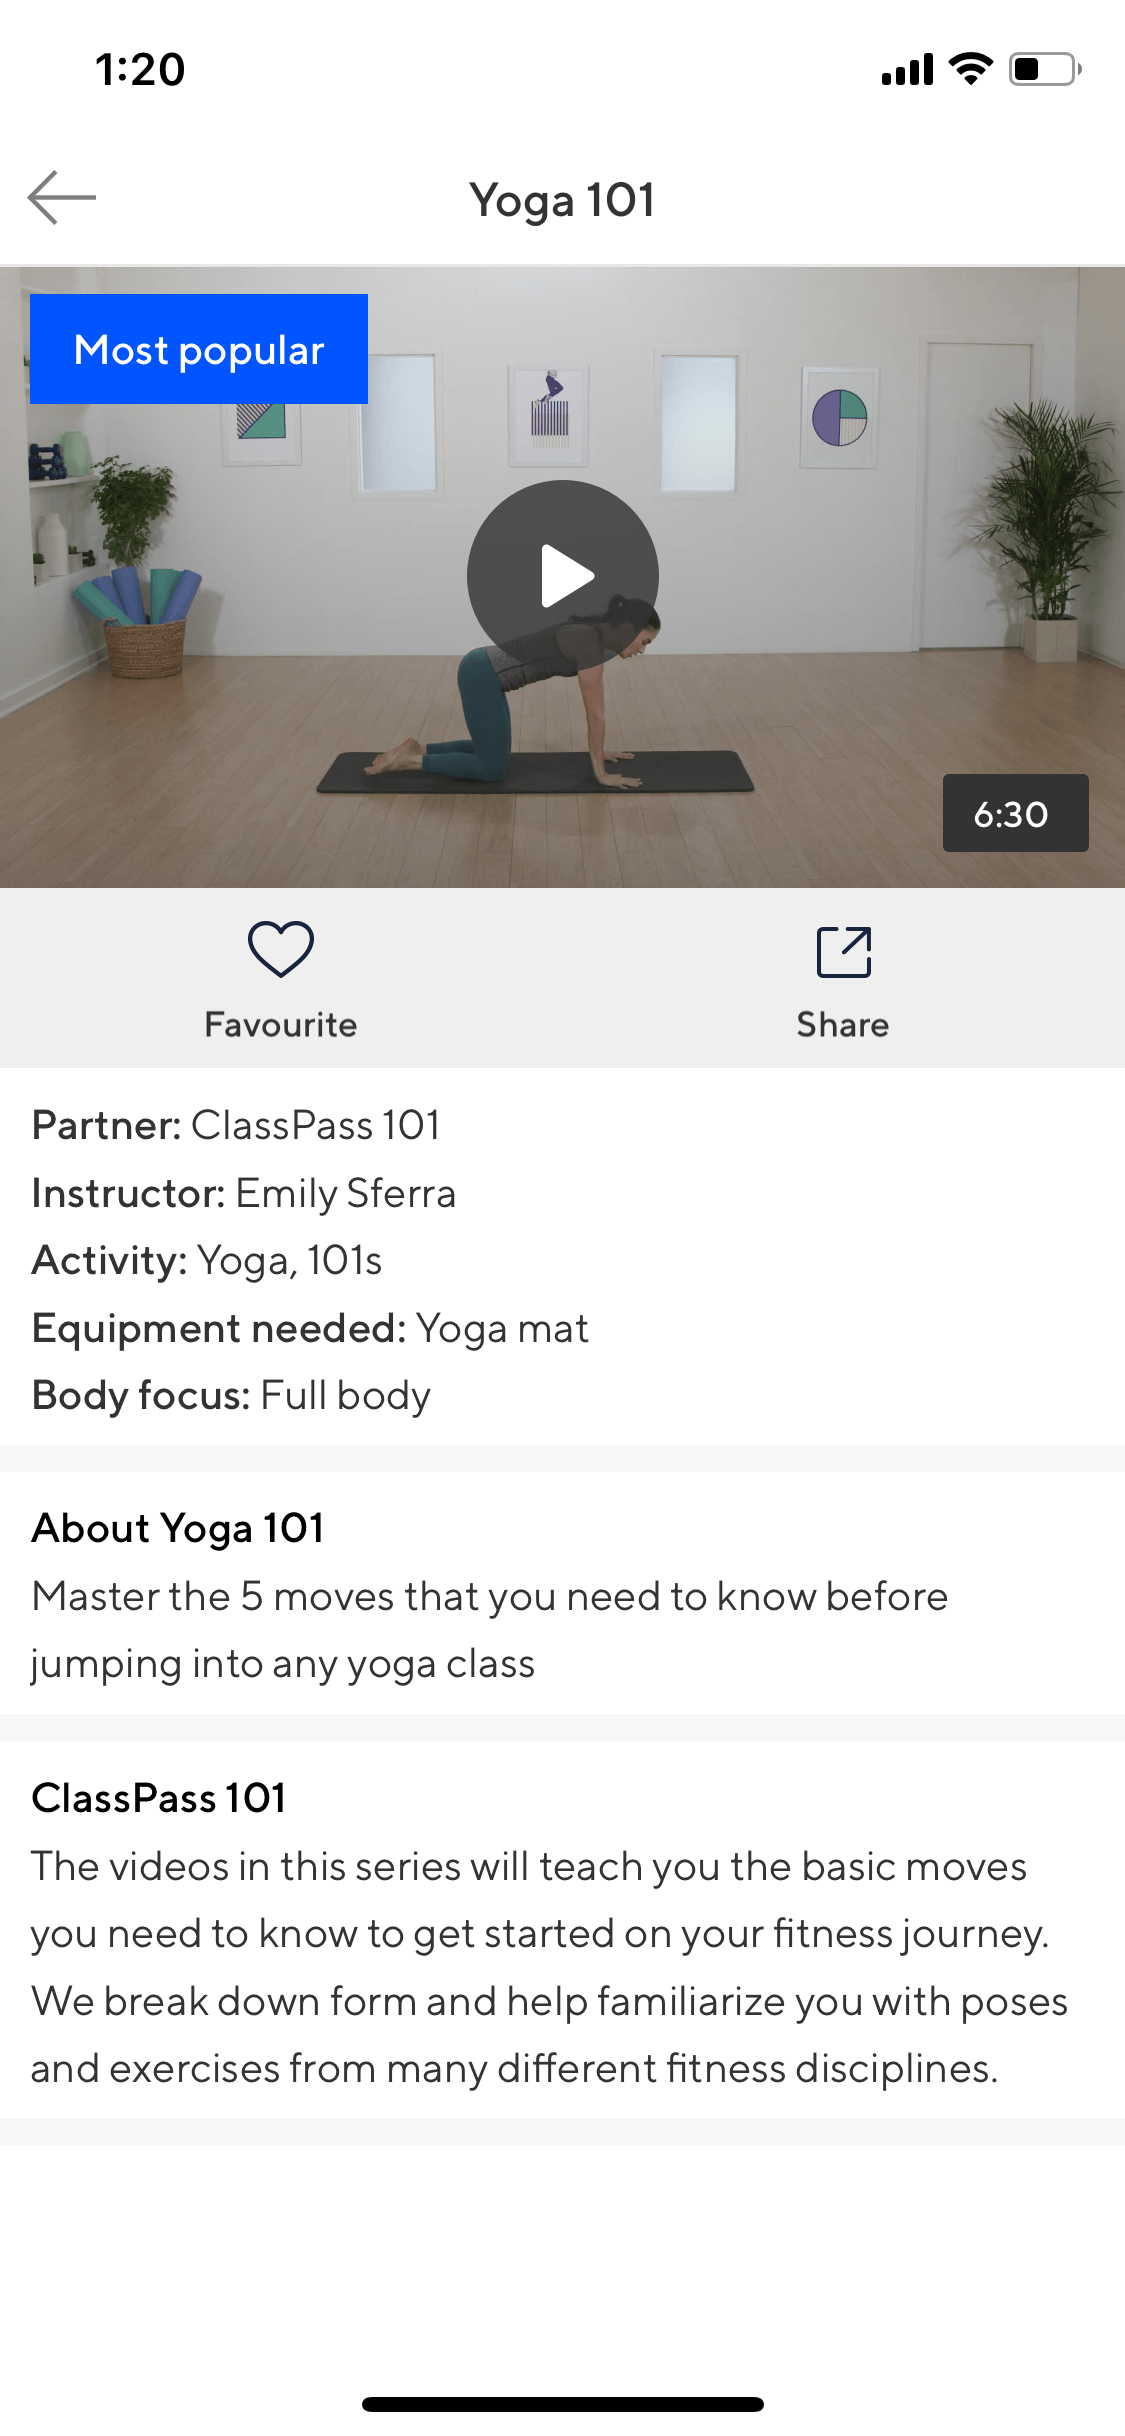Buttons: (14, 280, 384, 419), (186, 896, 387, 1060), (744, 904, 946, 1056), (3, 129, 135, 261)
